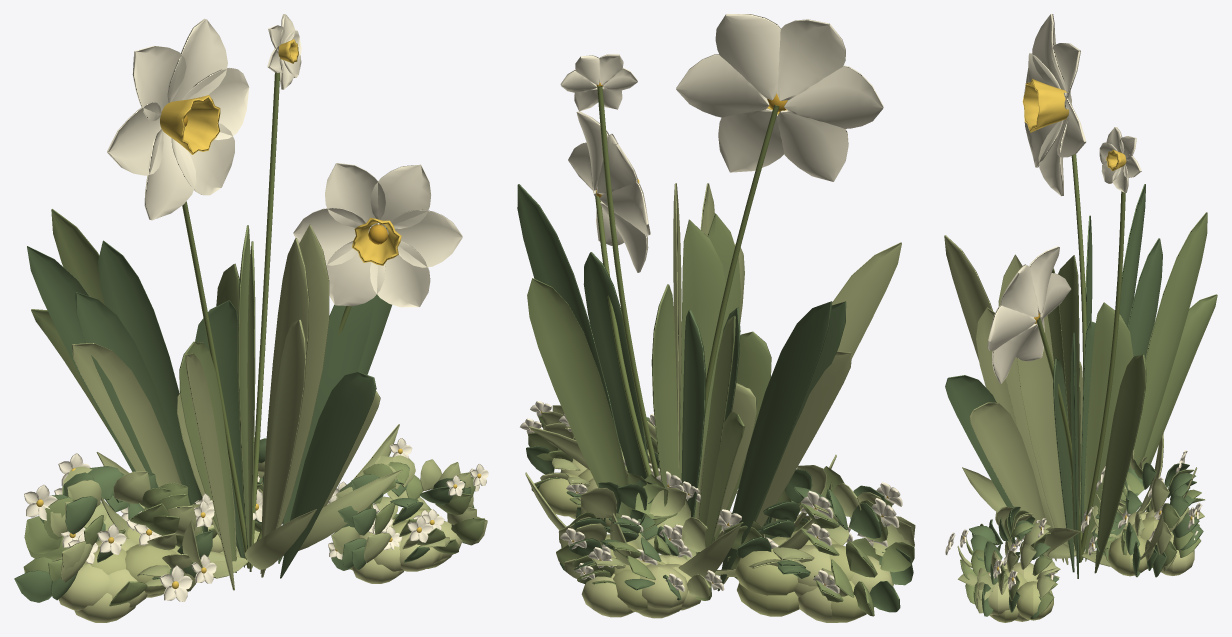
Rendered from garden3d_flowers_left.glb.
3 views of the same model, side by side, from view 1: azimuth 30°, elevation 25°; view 2: azimuth 150°, elevation 25°; view 3: azimuth 270°, elevation 25° (orthographic). The views are drawn at different scales.
Visible parts, largest first — view 1: Plants / curved grass blades (×3), Daffodil / sculpted petals, Shrub / individual folded leaves (×6), Shrub / moss volumes (×3), Daffodil / basal leaves, Shrub / daisies / sculpted petals (×2), Daffodil / flexible round stems, Daffodil / hollow trumpet, Shrub / top flowers / sculpted petals (×2); view 2: Plants / curved grass blades (×3), Daffodil / sculpted petals, Shrub / individual folded leaves (×9), Shrub / moss volumes (×5), Daffodil / flexible round stems, Shrub / daisies / sculpted petals (×3), Daffodil / basal leaves; view 3: Plants / curved grass blades (×3), Shrub / individual folded leaves (×6), Daffodil / sculpted petals, Shrub / moss volumes (×4), Daffodil / flexible round stems, Daffodil / basal leaves, Daffodil / hollow trumpet, Shrub / daisies / sculpted petals (×2).
Part boxes in pixels (x1,y1,x2,y2): Plants / curved grass blades (×3): [27, 209, 391, 590]; Daffodil / sculpted petals: [107, 14, 462, 307]; Shrub / individual folded leaves (×6): [14, 455, 487, 606]; Shrub / moss volumes (×3): [58, 518, 462, 622]; Daffodil / basal leaves: [96, 424, 402, 578]; Shrub / daisies / sculpted petals (×2): [24, 438, 488, 601]; Daffodil / flexible round stems: [182, 72, 351, 568]; Daffodil / hollow trumpet: [160, 39, 401, 265]; Shrub / top flowers / sculpted petals (×2): [60, 509, 444, 564]; Plants / curved grass blades (×3): [517, 183, 901, 591]; Daffodil / sculpted petals: [560, 14, 883, 272]; Shrub / individual folded leaves (×9): [526, 405, 915, 616]; Shrub / moss volumes (×5): [538, 469, 893, 622]; Daffodil / flexible round stems: [595, 86, 779, 477]; Shrub / daisies / sculpted petals (×3): [520, 401, 902, 593]; Daffodil / basal leaves: [525, 420, 836, 580]; Plants / curved grass blades (×3): [944, 184, 1217, 578]; Shrub / individual folded leaves (×6): [957, 449, 1204, 619]; Daffodil / sculpted petals: [987, 14, 1141, 383]; Shrub / moss volumes (×4): [988, 509, 1194, 622]; Daffodil / flexible round stems: [1037, 154, 1125, 562]; Daffodil / basal leaves: [962, 433, 1197, 566]; Daffodil / hollow trumpet: [1022, 78, 1126, 323]; Shrub / daisies / sculpted petals (×2): [945, 450, 1202, 590].
Size of the model in its own units: 6.19 by 7.96 by 3.97.
